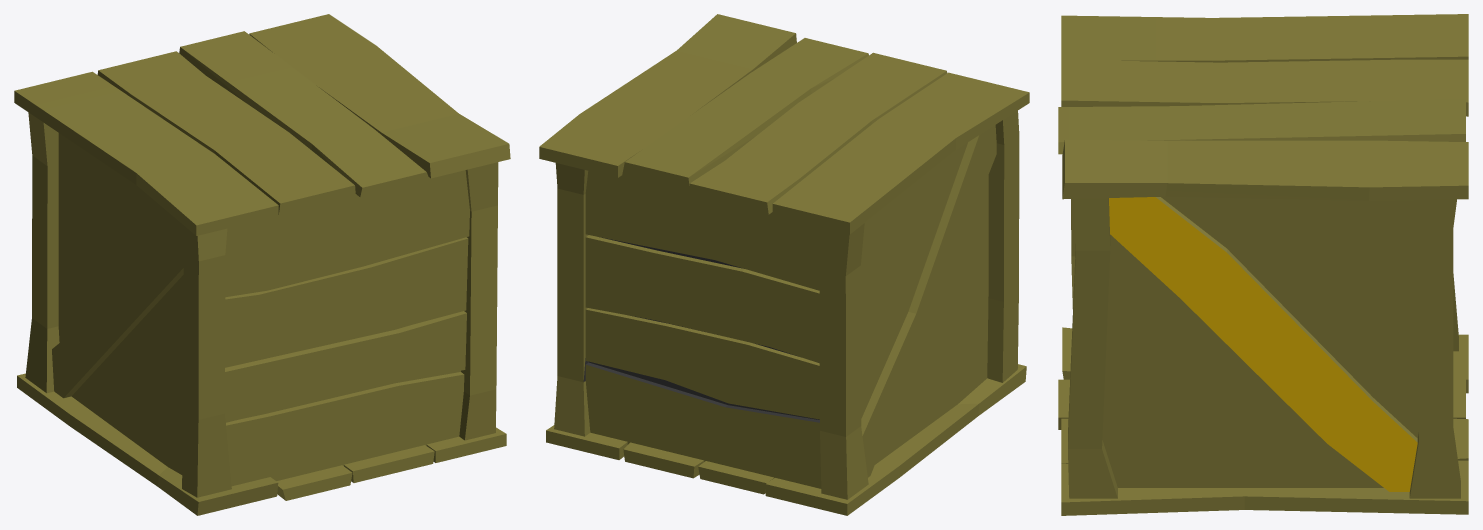
Rendered from box_Decoration_01.fbx.
The picture shows the model from 3 angles, left to right: view 1: azimuth 30°, elevation 25°; view 2: azimuth 150°, elevation 25°; view 3: azimuth 270°, elevation 25°; orthographic projection. The views are drawn at different scales.
Parts seen in each view (by area): view 1: Box; view 2: Box; view 3: Box.
Boxes of the visible parts, x1,y1,x2,y2 form: Box: (14,14,510,515); Box: (539,14,1029,515); Box: (1058,14,1468,515).
Size of the model in its own units: 60.02 by 54.54 by 60.
